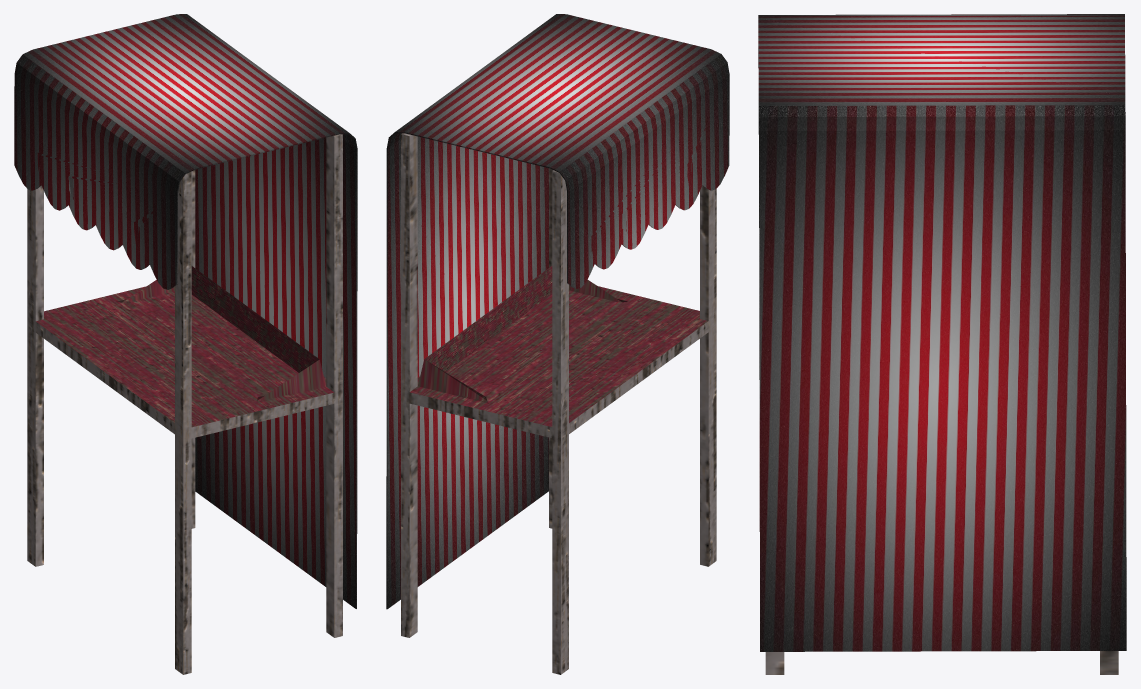
File: PopCorn_Stand.FBX
3 renders of one model, left to right at view 1: azimuth 30°, elevation 25°; view 2: azimuth 150°, elevation 25°; view 3: azimuth 270°, elevation 25°, orthographic. The views are drawn at different scales.
Parts seen in each view (by area): view 1: Plane001, Box001; view 2: Plane001, Box001; view 3: Plane001, Box001.
Boxes of the visible parts, x1,y1,x2,y2 form: Plane001: [14, 14, 357, 608]; Box001: [27, 134, 342, 674]; Plane001: [386, 14, 729, 609]; Box001: [401, 133, 716, 674]; Plane001: [758, 14, 1126, 651]; Box001: [765, 651, 1118, 674].
Size of the model in its own units: 44.26 by 118 by 68.37.
